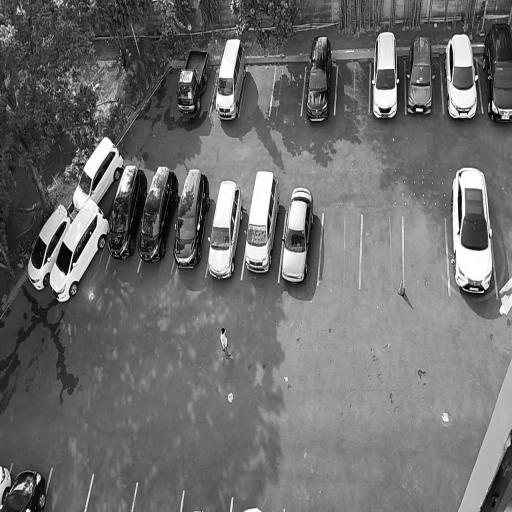Car: (45, 194, 111, 306), (449, 161, 495, 297), (134, 159, 186, 265), (22, 197, 75, 295), (168, 162, 215, 269), (103, 160, 152, 261), (67, 131, 124, 214), (242, 165, 284, 276), (205, 173, 247, 281), (278, 181, 318, 284), (440, 29, 482, 120), (479, 20, 512, 128), (213, 35, 251, 121), (303, 32, 335, 124), (176, 42, 214, 116), (371, 26, 400, 121), (406, 29, 436, 118), (1, 465, 51, 512)
Space Available: (404, 216, 449, 296), (318, 211, 361, 287), (361, 213, 404, 288), (43, 468, 93, 512), (86, 474, 137, 511), (270, 66, 306, 116), (240, 66, 276, 116), (335, 62, 370, 113), (131, 484, 184, 512), (491, 223, 512, 293)
